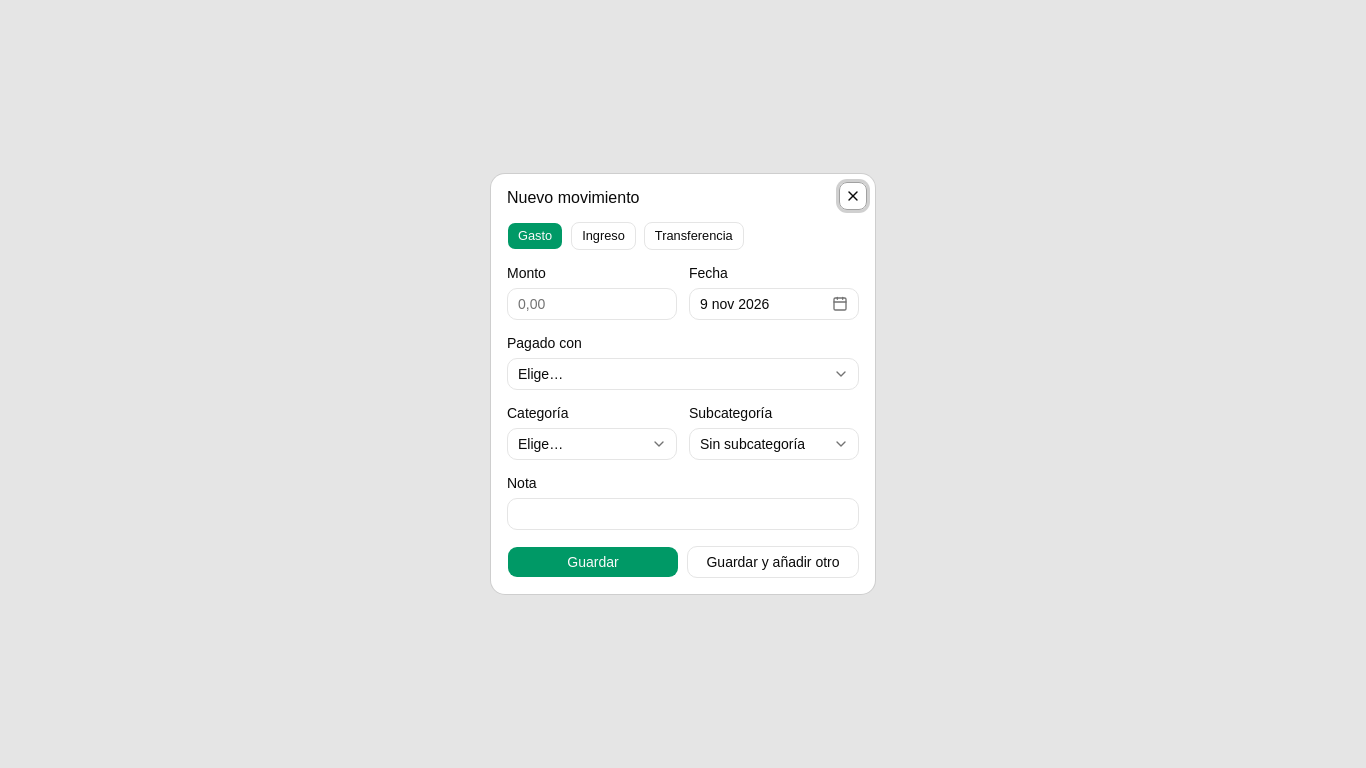
Test: TransactionDialog › a category from the old type is not submitted after switching type
Type "10" into the field labelled "Monto" at (592, 304), box [507, 288, 677, 320]
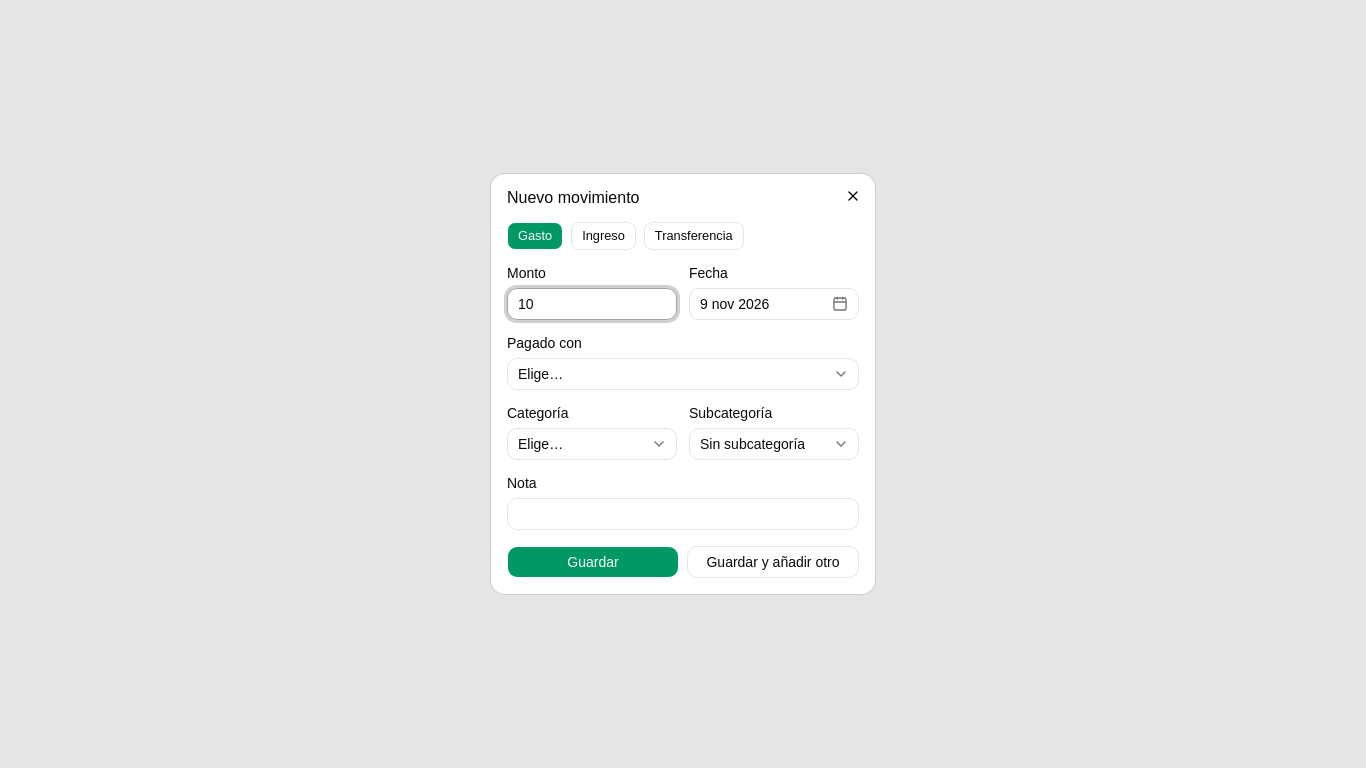
Select "Alimentación" in the dropdown labelled "Categoría" at (592, 444), box [507, 428, 677, 460]
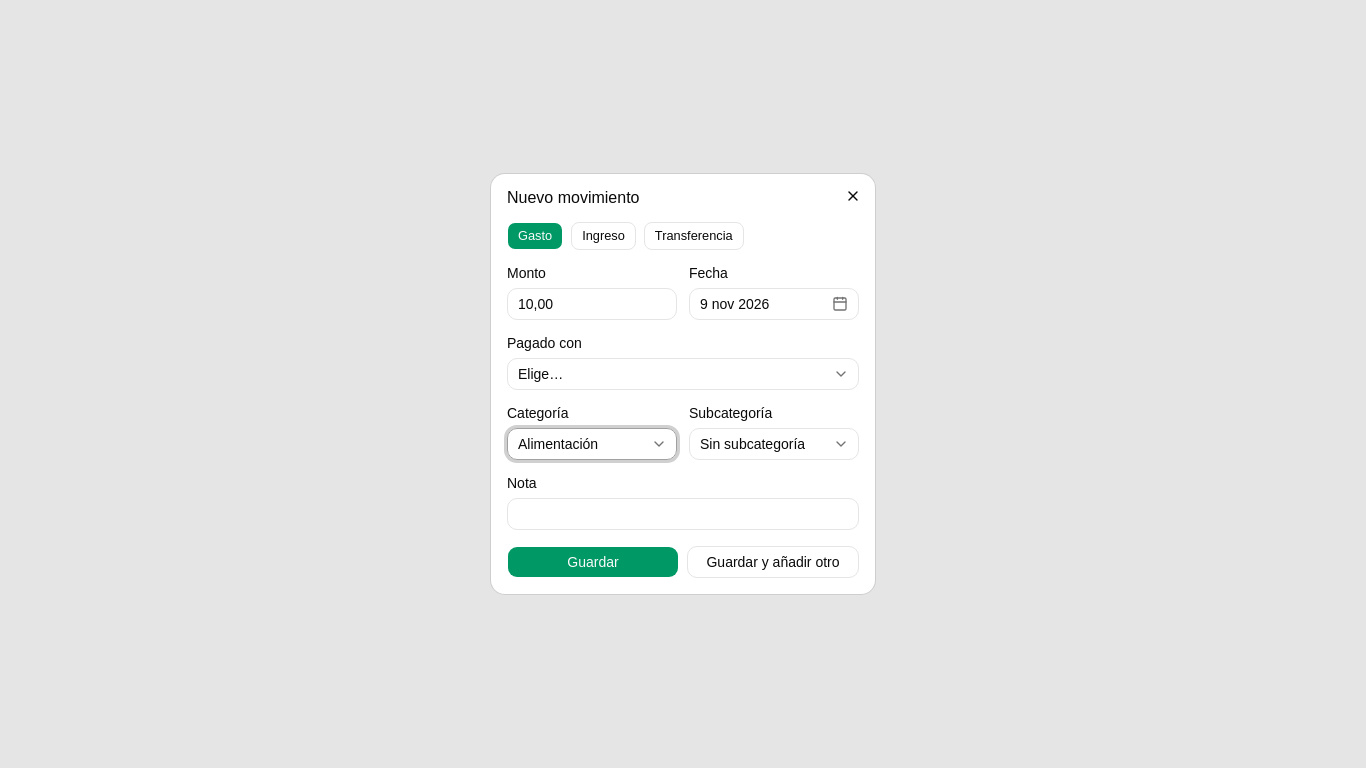
Click the radio button labelled "Ingreso" at (604, 236), box [571, 222, 636, 250]
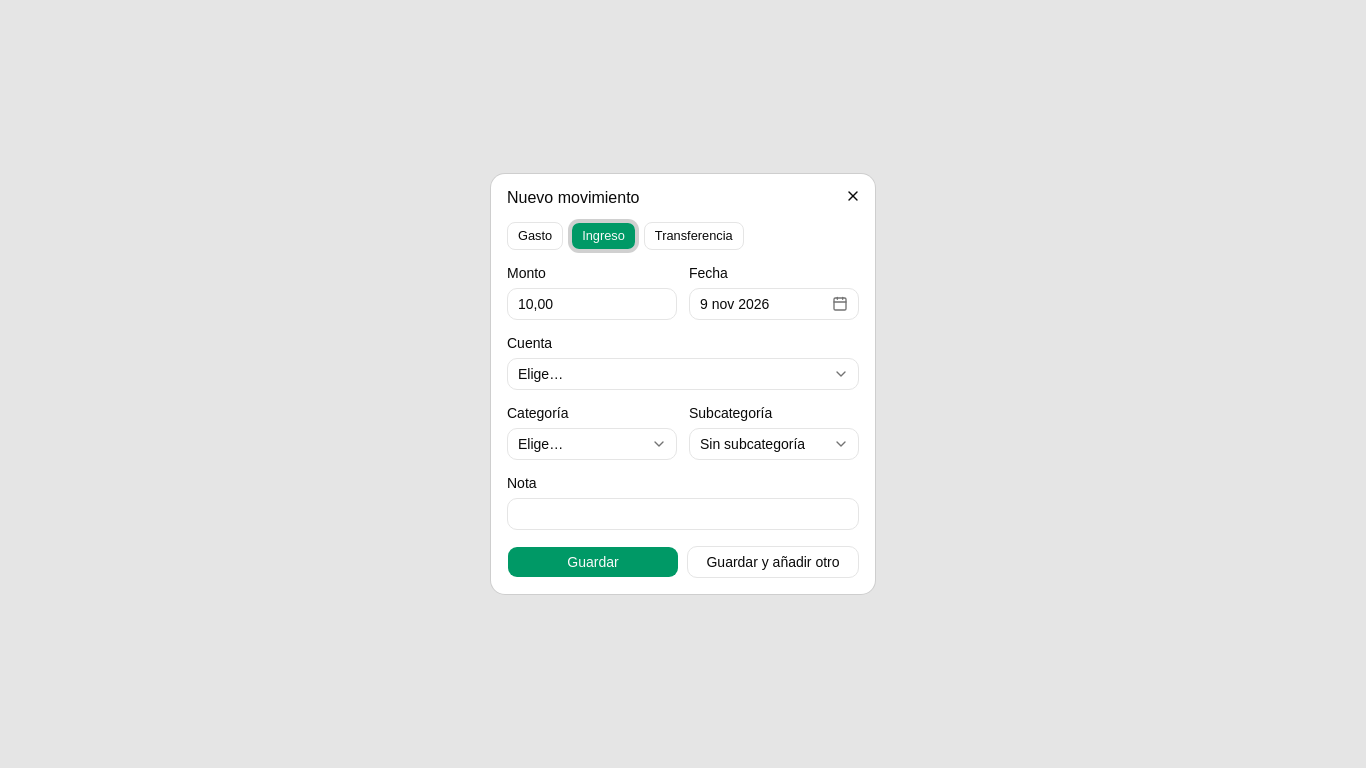
Select "Caja" in the dropdown labelled "Cuenta" at (683, 374), box [507, 358, 859, 390]
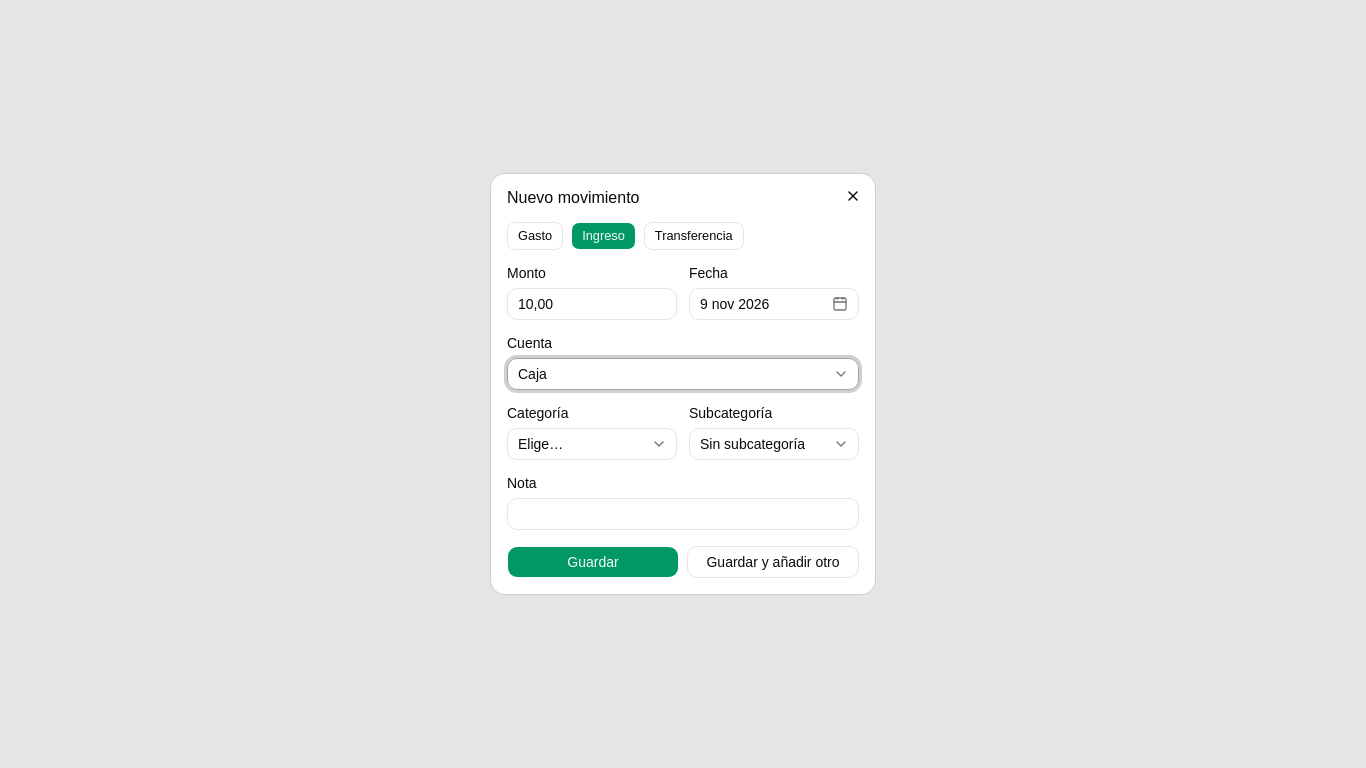
Click the button "Guardar" at (593, 562), box [507, 546, 679, 578]
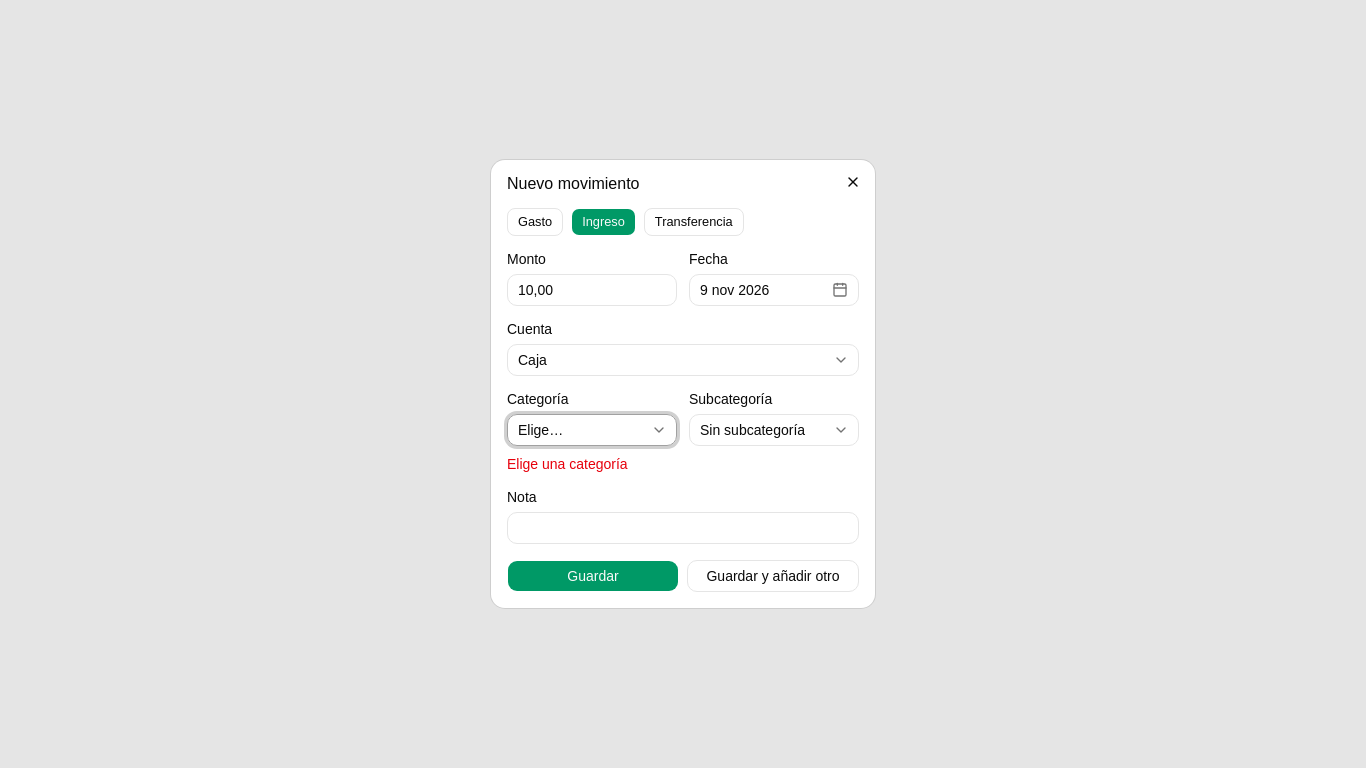
Expected: the text "Elige una categoría" is shown, [507, 456, 628, 472]
